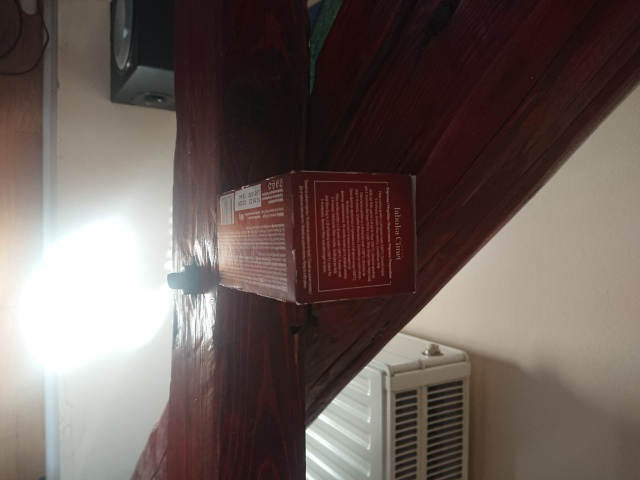Franck Apple Cinnamon Tea 60g: (214, 168, 421, 307)
